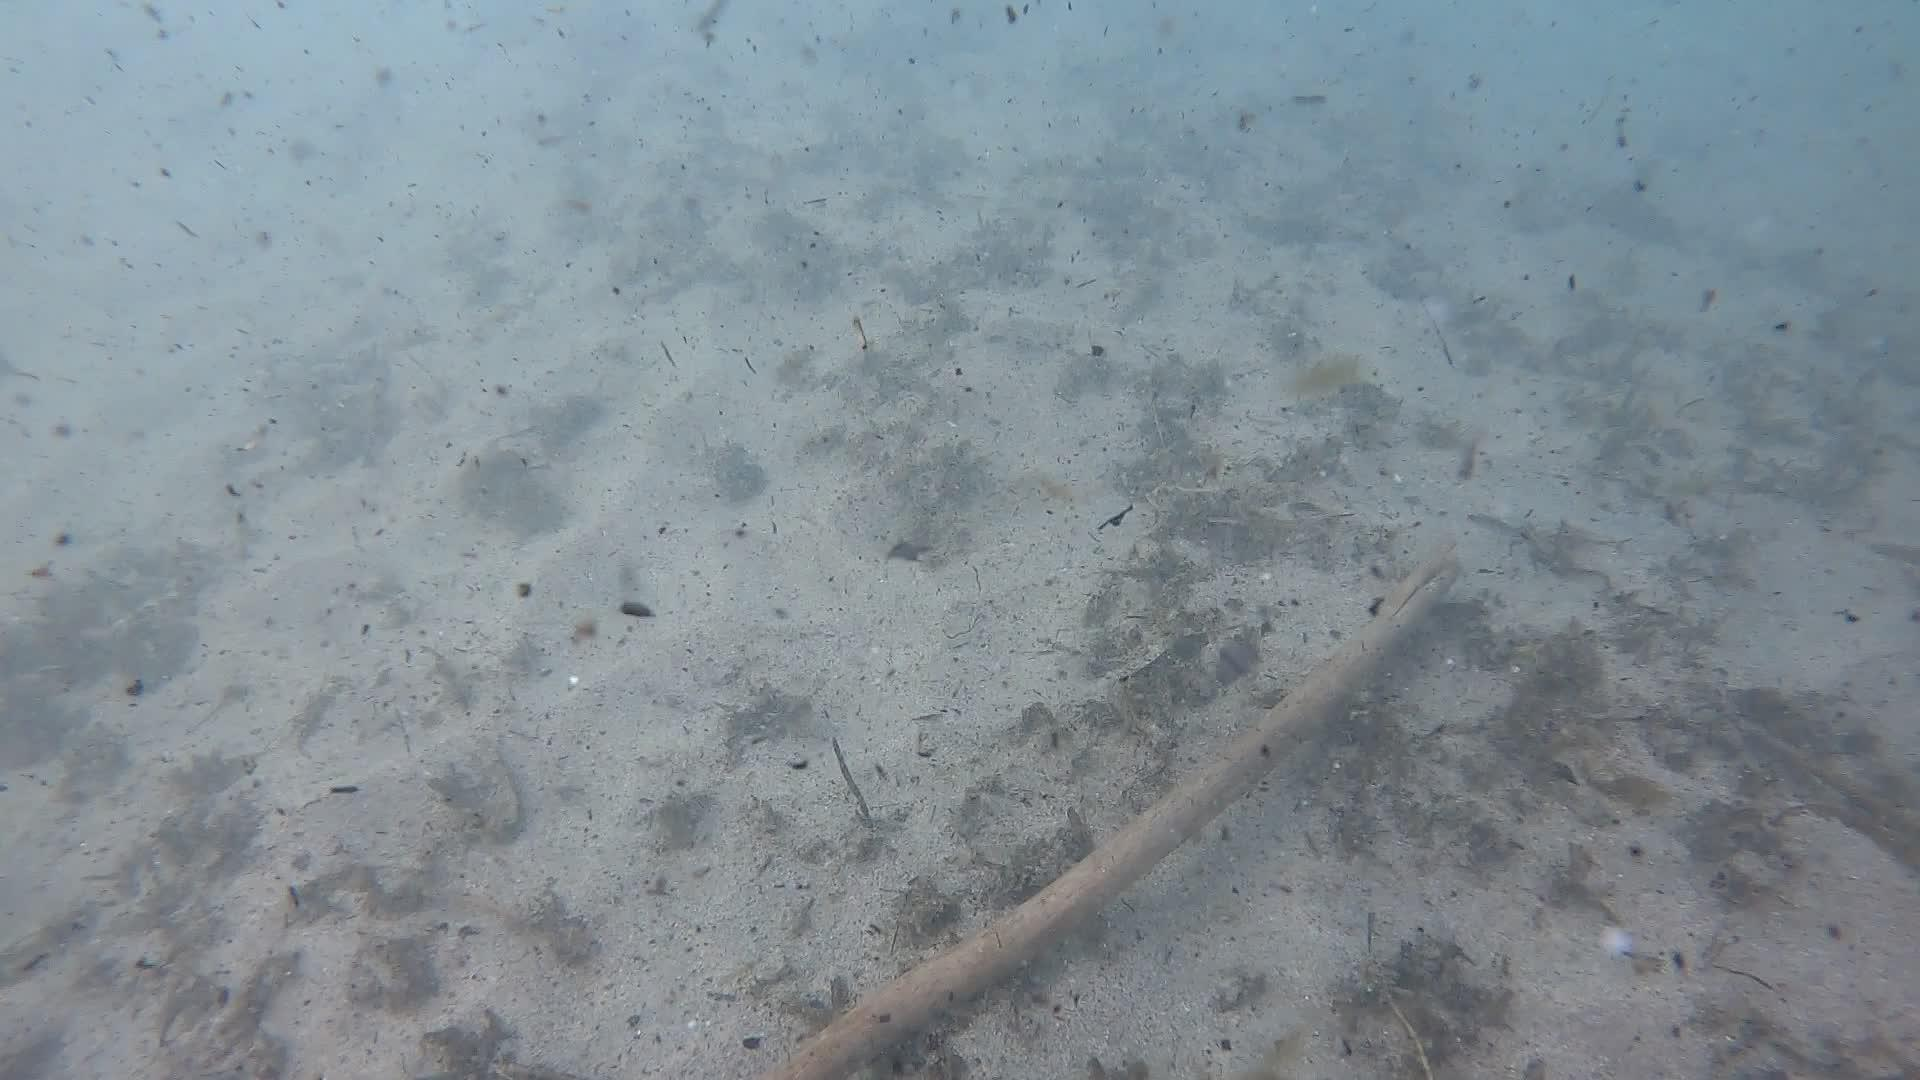wood: (764, 543, 1458, 1080)
